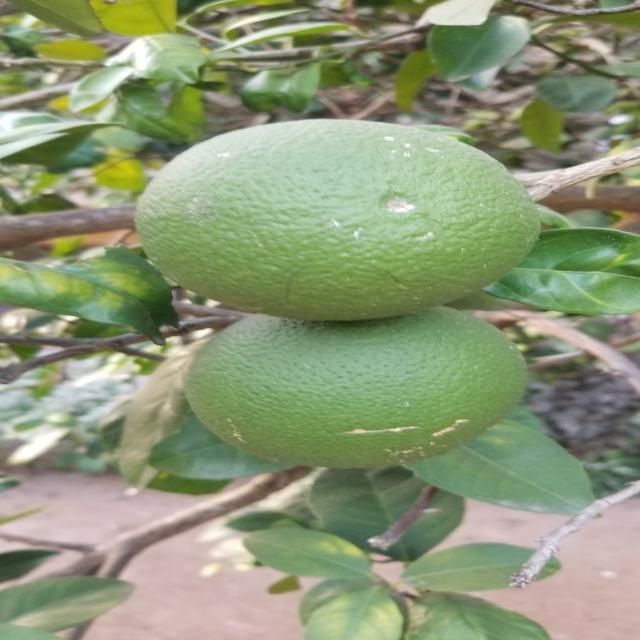Unripe: (134, 116, 555, 317), (180, 309, 532, 470)
